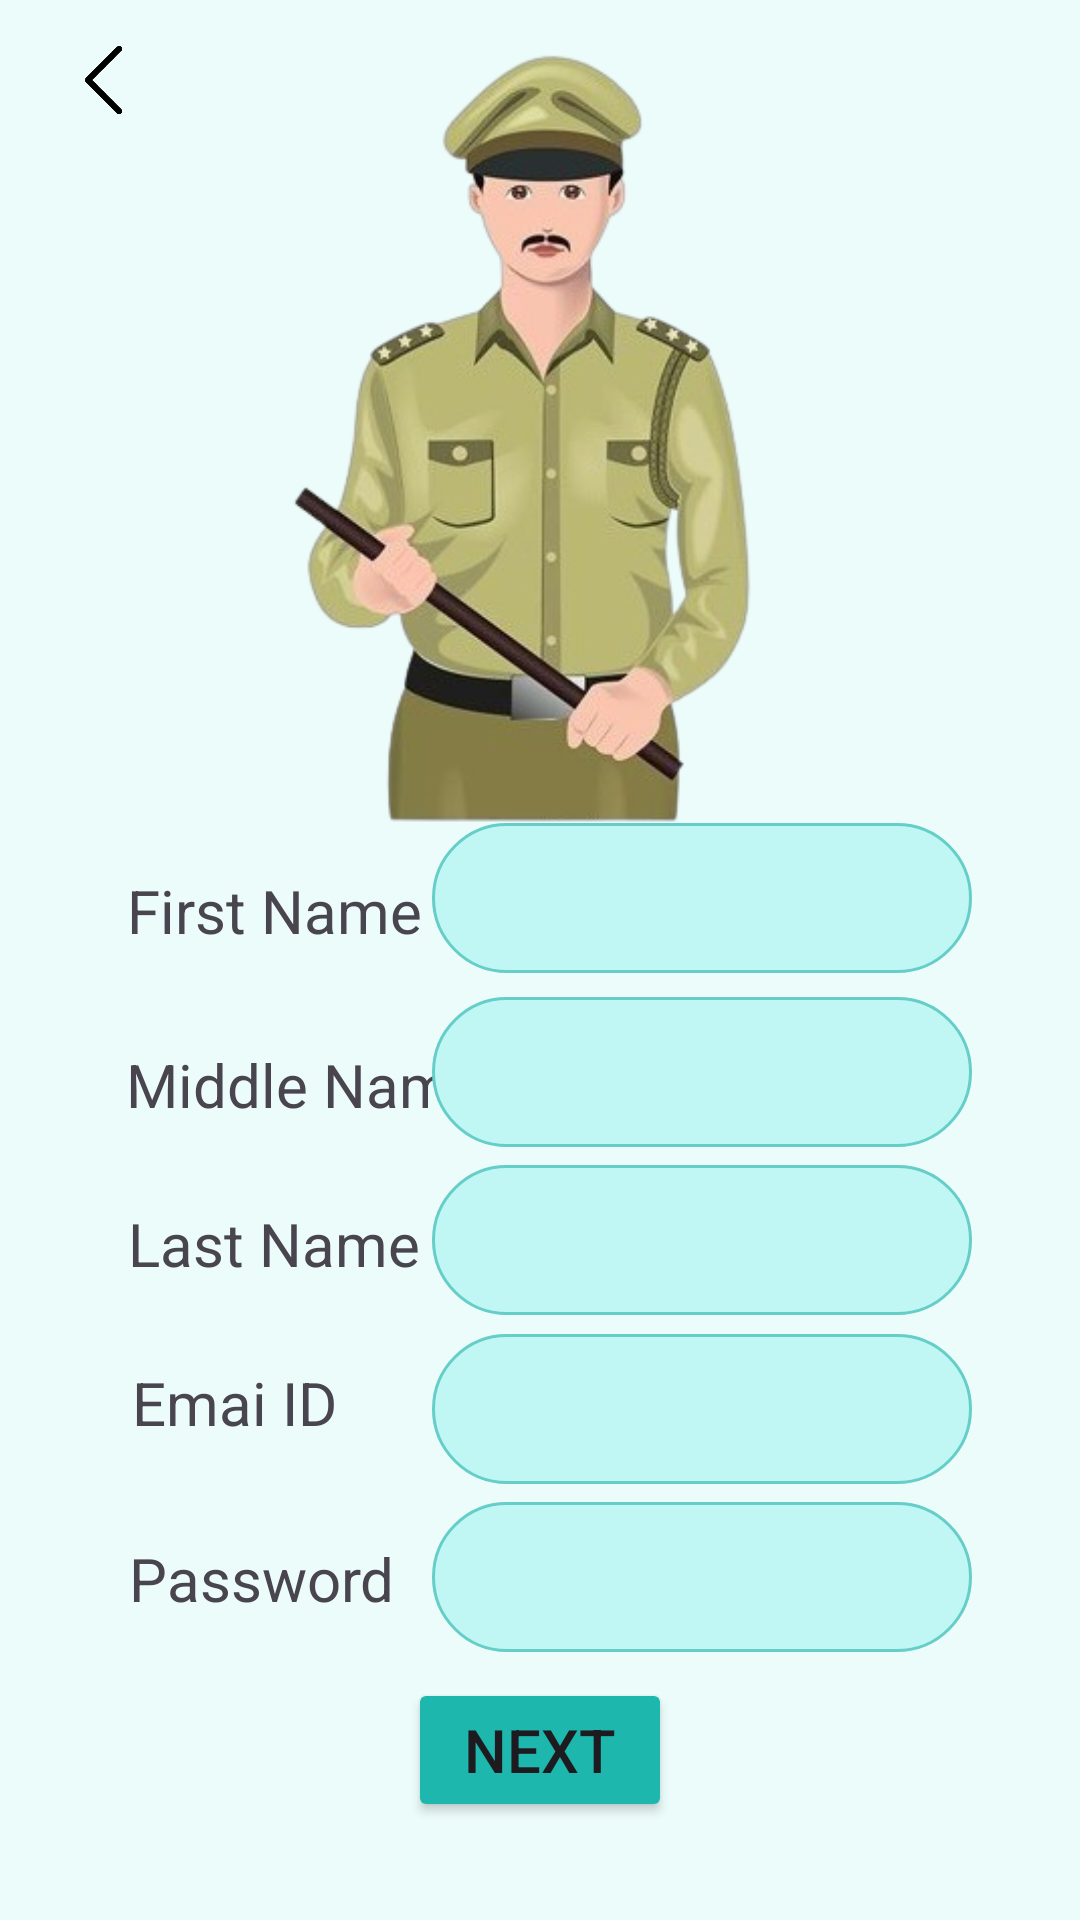

Where icons sit on this 1080x1920 app screen, as (x1,y1,x2,y2):
back: (85,46,122,114)
